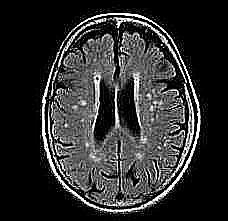Normal_Brain: (1, 1, 228, 221)
